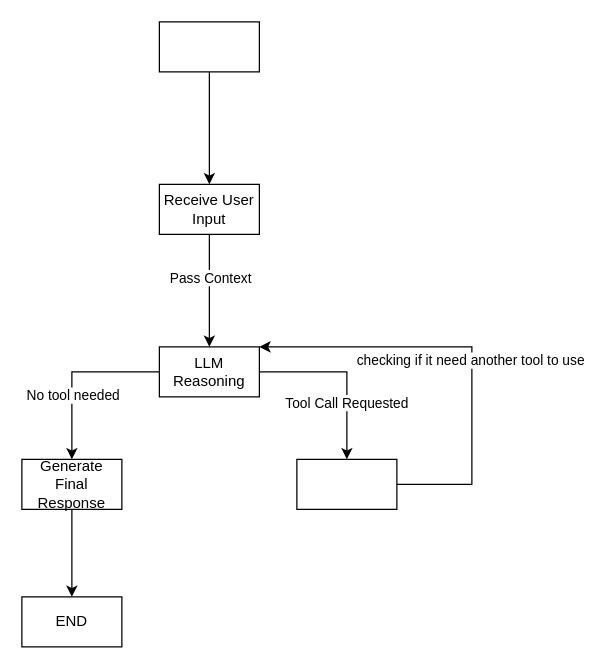
Some shapes in this 605 by 669 pixel diagram are drawn without their labels. The centre of each missing label's shape, as x and y in pixels:
"Execute Tool" goes at (x=346, y=483).
"START" goes at (x=208, y=46).
